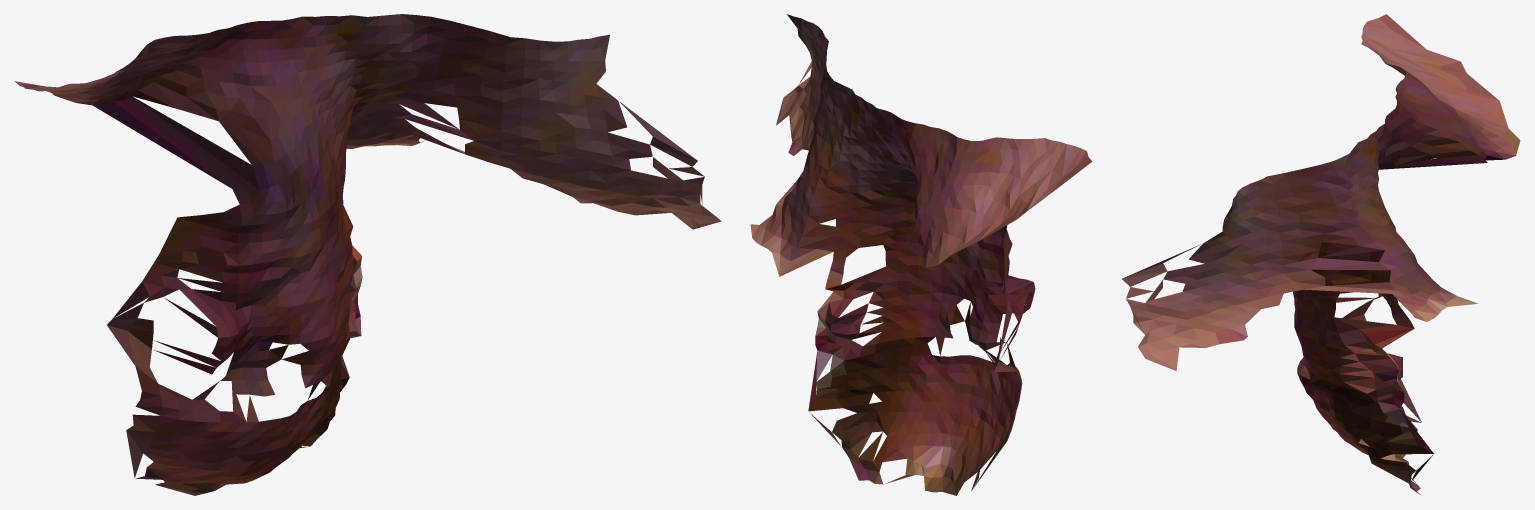
3 views of the same model, side by side, from view 1: azimuth 30°, elevation 25°; view 2: azimuth 150°, elevation 25°; view 3: azimuth 270°, elevation 25° (orthographic). The views are drawn at different scales.
Visible parts, largest first — view 1: ofMesh; view 2: ofMesh; view 3: ofMesh.
Boxes of the visible parts, x1,y1,x2,y2 form: ofMesh: (14, 14, 721, 495); ofMesh: (750, 14, 1092, 495); ofMesh: (1122, 14, 1520, 495).
Size of the model in its own units: 342 by 276 by 268.
Materials: 1 (1 with a texture image).
